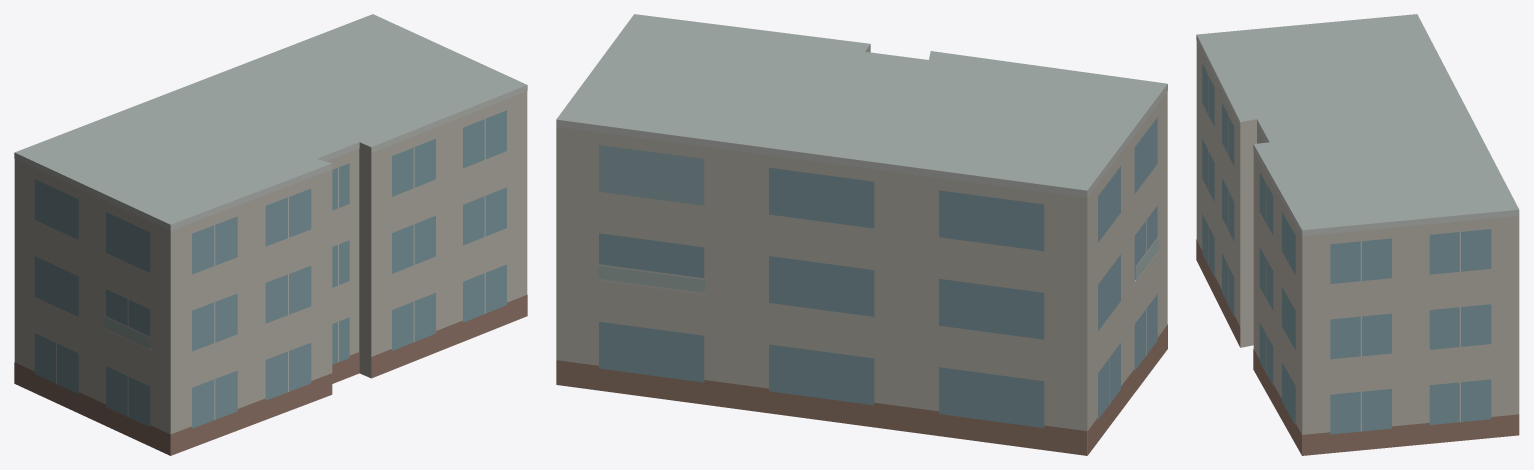
File: survey-upis-32708913.glb
The picture shows the model from 3 angles, left to right: view 1: azimuth 30°, elevation 25°; view 2: azimuth 150°, elevation 25°; view 3: azimuth 270°, elevation 25°; orthographic projection. The views are drawn at different scales.
Parts seen in each view (by area): view 1: survey-upis-32708913.tmp; view 2: survey-upis-32708913.tmp; view 3: survey-upis-32708913.tmp.
Part boxes in pixels (x1,y1,x2,y2): survey-upis-32708913.tmp: (14, 14, 527, 455); survey-upis-32708913.tmp: (556, 14, 1167, 455); survey-upis-32708913.tmp: (1196, 14, 1519, 455).
Size of the model in its own units: 18.82 by 9.15 by 11.87.
